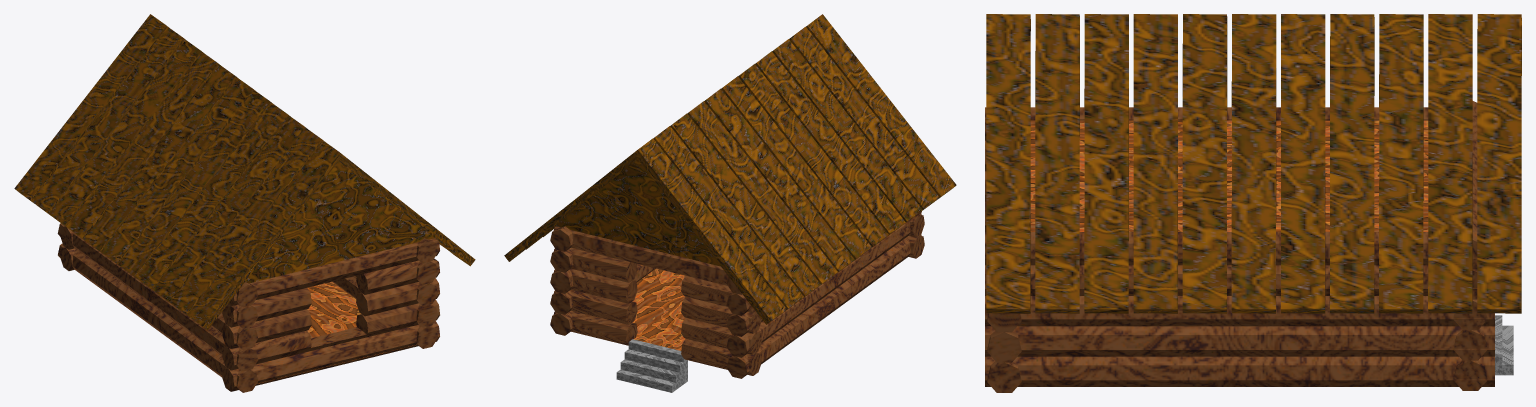
The model's file is Home.fbx.
3 renders of one model, left to right at view 1: azimuth 30°, elevation 25°; view 2: azimuth 150°, elevation 25°; view 3: azimuth 270°, elevation 25°, orthographic. The views are drawn at different scales.
Parts seen in each view (by area): view 1: Plane.003, Cylinder.012, Plane.005; view 2: Plane.003, Cylinder.012, Plane.005, Cube.011; view 3: Plane.003, Cylinder.012, Plane.005, Cube.011.
Boxes of the visible parts, <box> form: Plane.003: <box>14,14,475,330</box>; Cylinder.012: <box>57,223,439,392</box>; Plane.005: <box>257,281,416,383</box>; Plane.003: <box>504,14,956,324</box>; Cylinder.012: <box>550,211,924,378</box>; Plane.005: <box>632,268,685,350</box>; Cube.011: <box>616,339,687,392</box>; Plane.003: <box>986,14,1521,313</box>; Cylinder.012: <box>985,101,1494,392</box>; Plane.005: <box>1030,120,1428,231</box>; Cube.011: <box>1495,315,1513,375</box>.
Bounding box in the file's own units: 970 × 823 × 1162.
